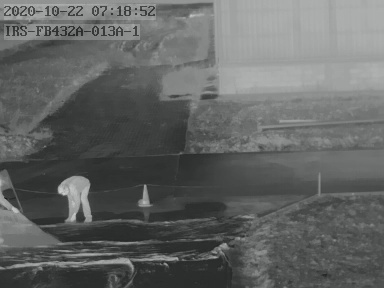person: (57, 175, 91, 224)
